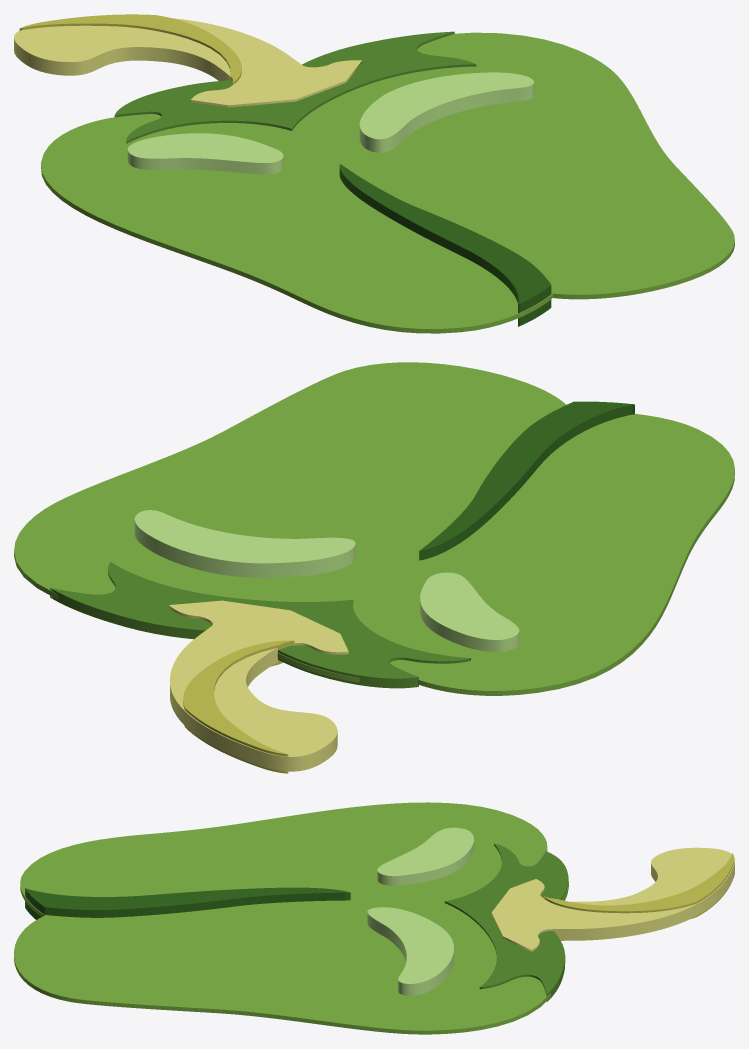
File: emoji_u1fad1.glb
3 renders of one model, top to bottom at view 1: azimuth 30°, elevation 25°; view 2: azimuth 150°, elevation 25°; view 3: azimuth 270°, elevation 25°, orthographic. The views are drawn at different scales.
Parts seen in each view (by area): view 1: emoji_u1fad1; view 2: emoji_u1fad1; view 3: emoji_u1fad1.
Part boxes in pixels (x1,y1,x2,y2): emoji_u1fad1: (14,14,734,333); emoji_u1fad1: (14,362,734,773); emoji_u1fad1: (14,802,734,1034).
Size of the model in its own units: 0.0251 by 0.0014 by 0.0335.
